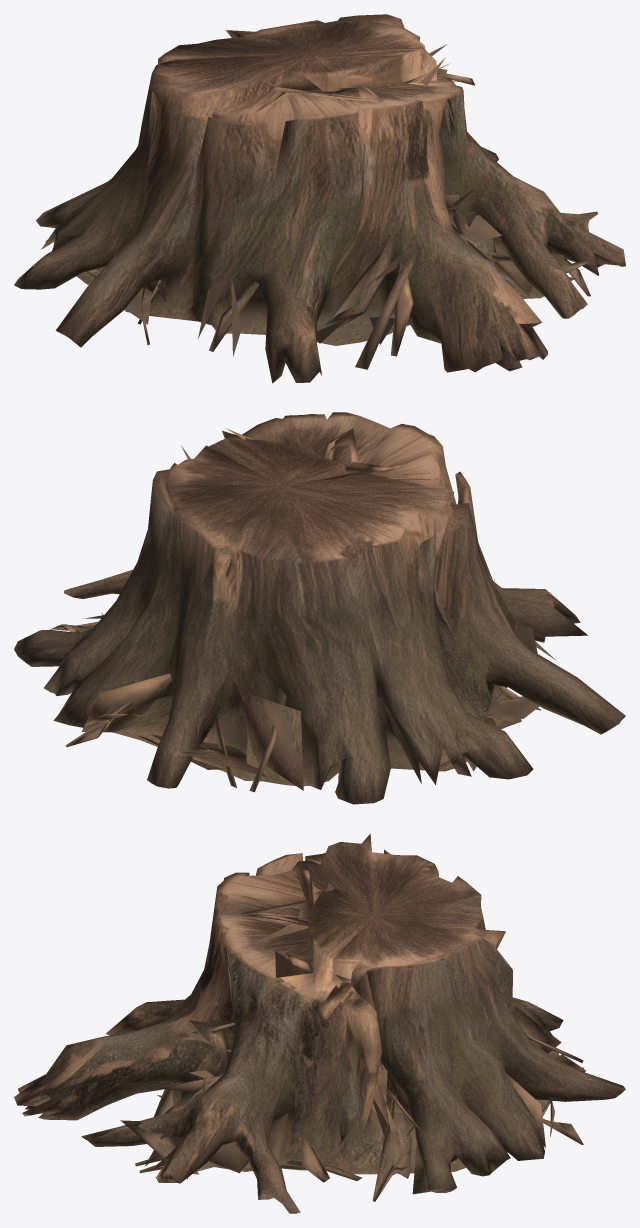
Rendered from Meshy_AI_Fallen_Giant_20261028_texture.fbx.
3 renders of one model, top to bottom at view 1: azimuth 30°, elevation 25°; view 2: azimuth 150°, elevation 25°; view 3: azimuth 270°, elevation 25°, orthographic. The views are drawn at different scales.
Visible parts, largest first — view 1: Mesh_0; view 2: Mesh_0; view 3: Mesh_0.
Part boxes in pixels (x1=…): Mesh_0: x1=14, y1=14, x2=625, y2=383; Mesh_0: x1=14, y1=412, x2=625, y2=804; Mesh_0: x1=14, y1=833, x2=625, y2=1213.
Size of the model in its own units: 92.19 by 34.23 by 95.26.
1 material, 1 textured.
